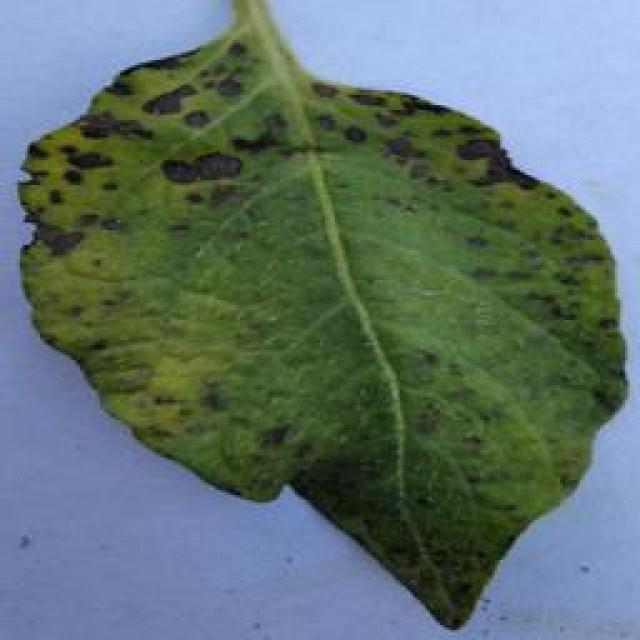Potato_Early_Blight: (10, 19, 628, 625)
